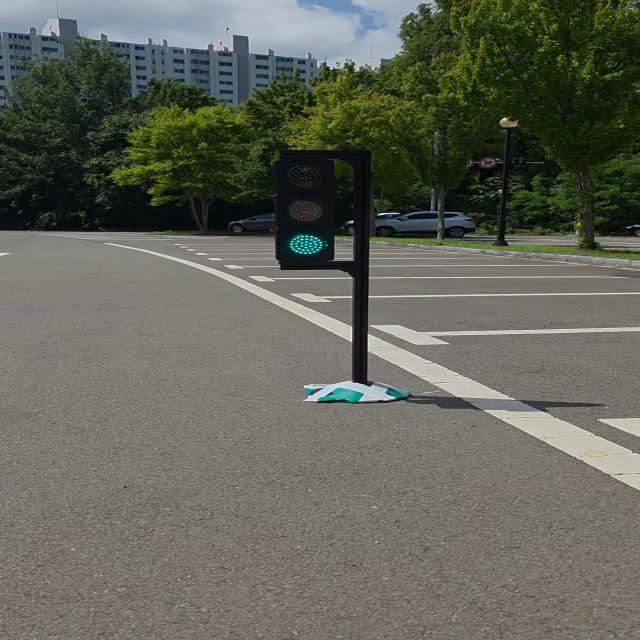green: (274, 152, 342, 268)
